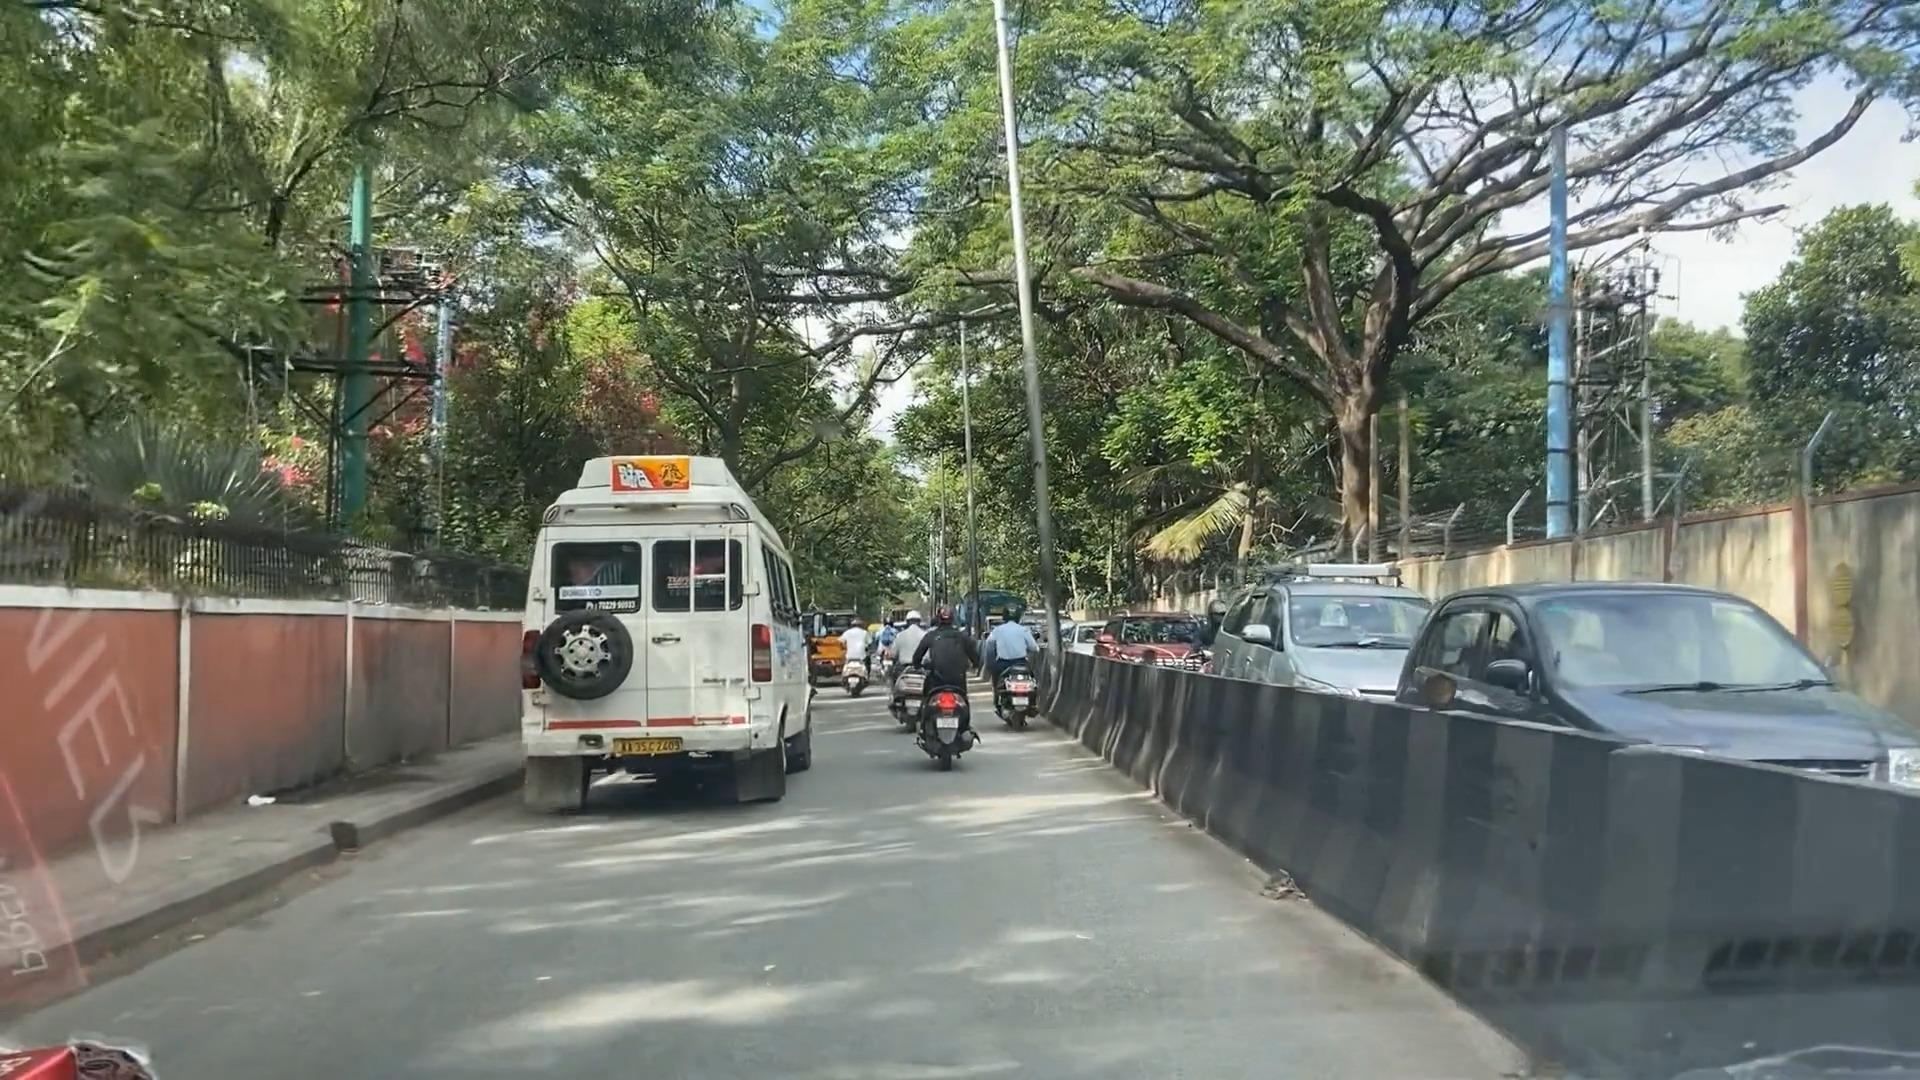HMV: (517, 467, 777, 803), (916, 596, 969, 758)
